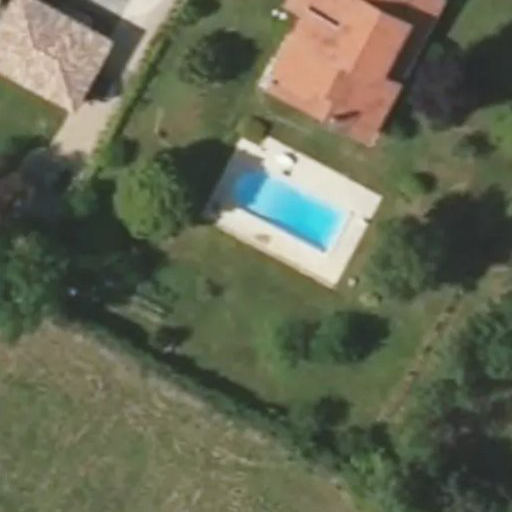pool: (184, 235, 318, 240)
